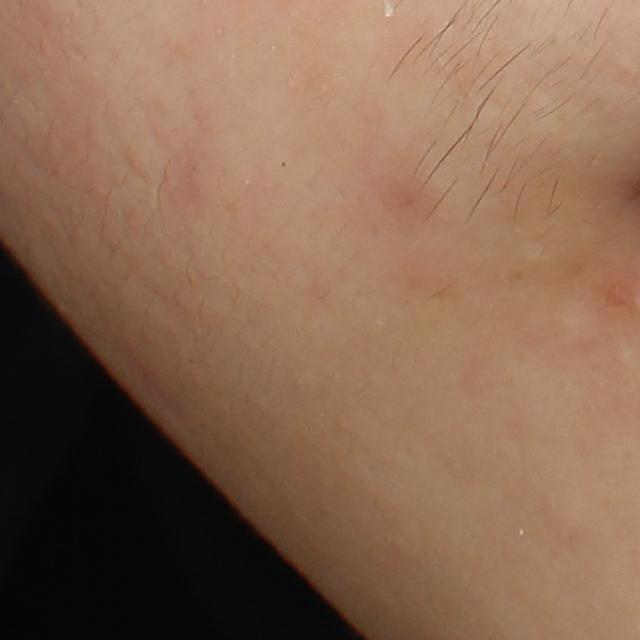hypertrophic_scar: (555, 306, 592, 354), (613, 336, 639, 376)
